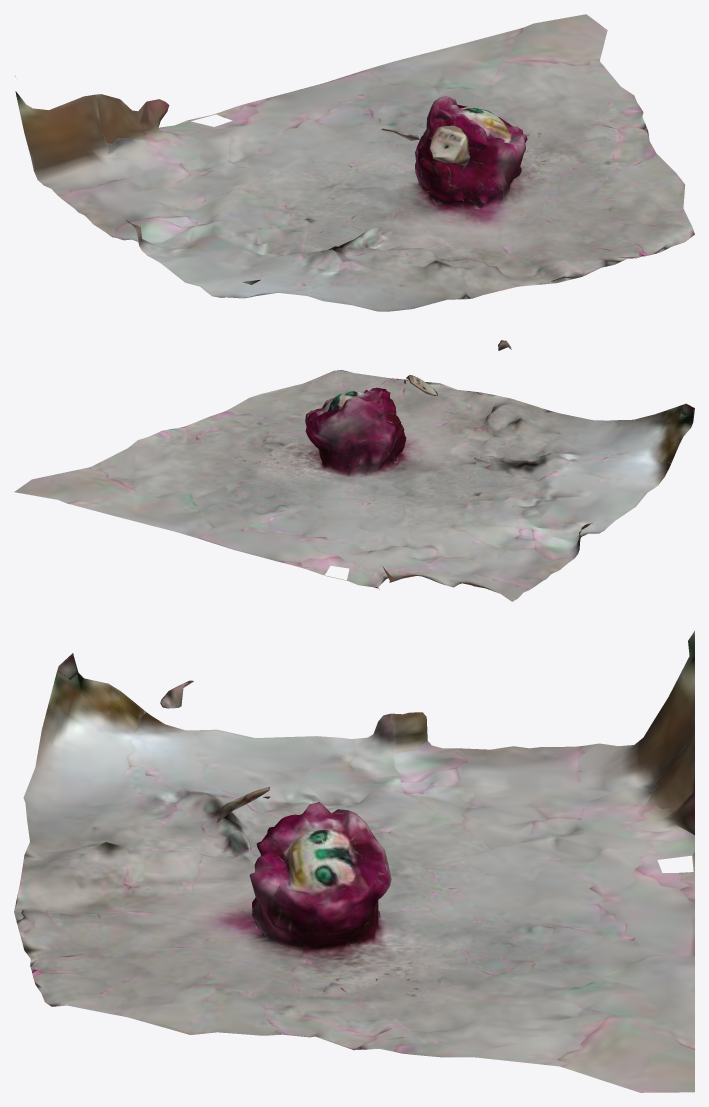
Rendered from hall.glb.
3 renders of one model, top to bottom at view 1: azimuth 30°, elevation 25°; view 2: azimuth 150°, elevation 25°; view 3: azimuth 270°, elevation 25°, orthographic. The views are drawn at different scales.
Bounding box in the file's own units: 3.7 × 0.8563 × 2.96.
1 material, 1 textured.
